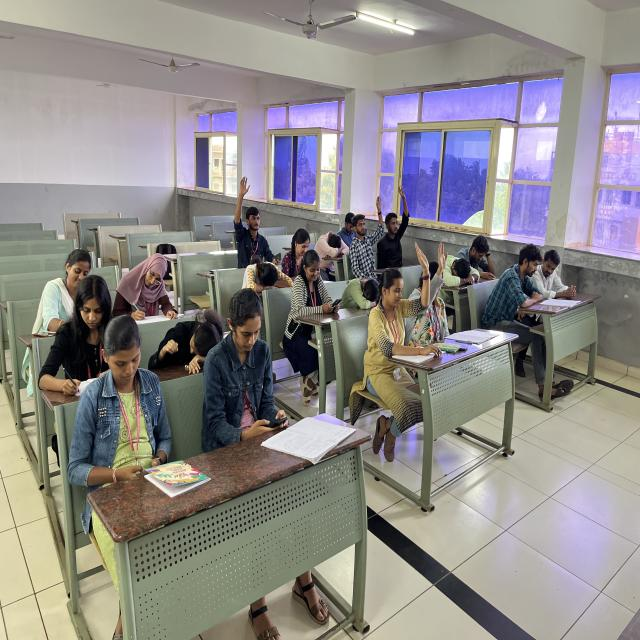Hand Rising: (368, 237, 431, 363), (409, 225, 458, 343), (235, 172, 271, 266), (384, 180, 414, 272), (348, 195, 387, 265)
Reading: (490, 237, 550, 313), (528, 236, 583, 303)
Sleeping: (146, 308, 227, 371), (229, 251, 301, 306), (431, 246, 482, 297), (335, 269, 384, 307), (309, 230, 352, 268)
Using Phone: (202, 294, 299, 438), (82, 312, 166, 471), (293, 248, 345, 326)
Writing: (33, 272, 114, 394), (107, 243, 196, 319)
